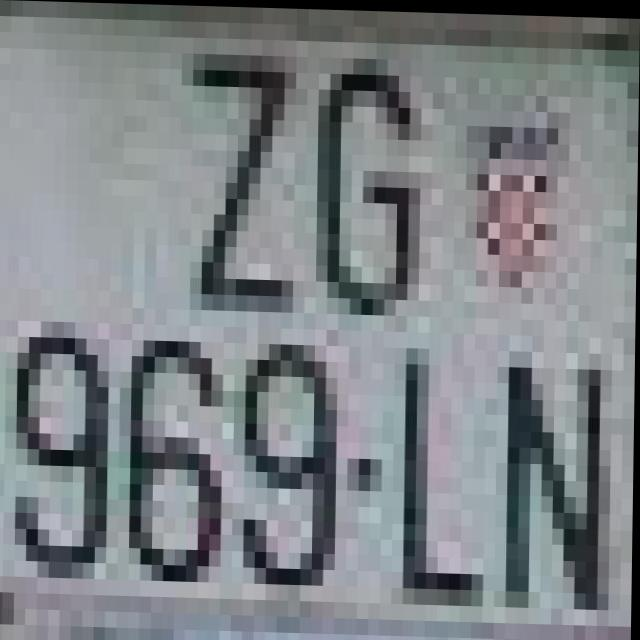6: (107, 307, 225, 581)
9: (5, 304, 111, 579), (233, 326, 339, 600)
G: (316, 55, 434, 314)
L: (370, 345, 510, 620)
N: (473, 347, 602, 622)
Z: (179, 36, 308, 327)
